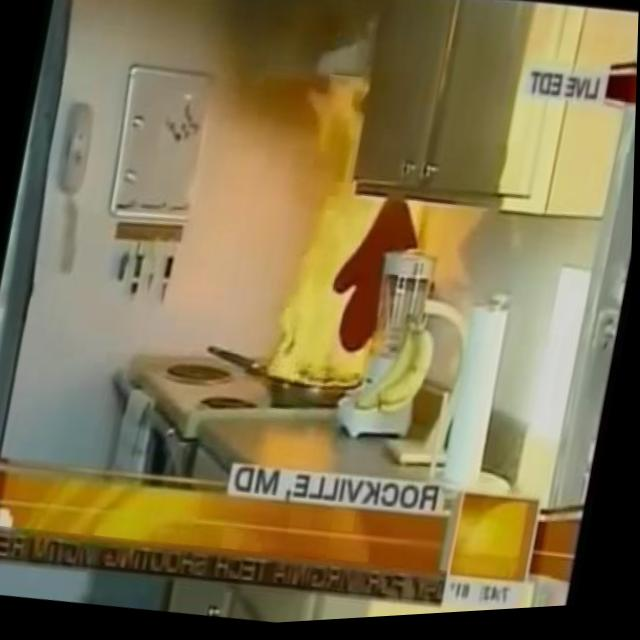fire: (253, 187, 426, 404), (286, 75, 373, 203)
